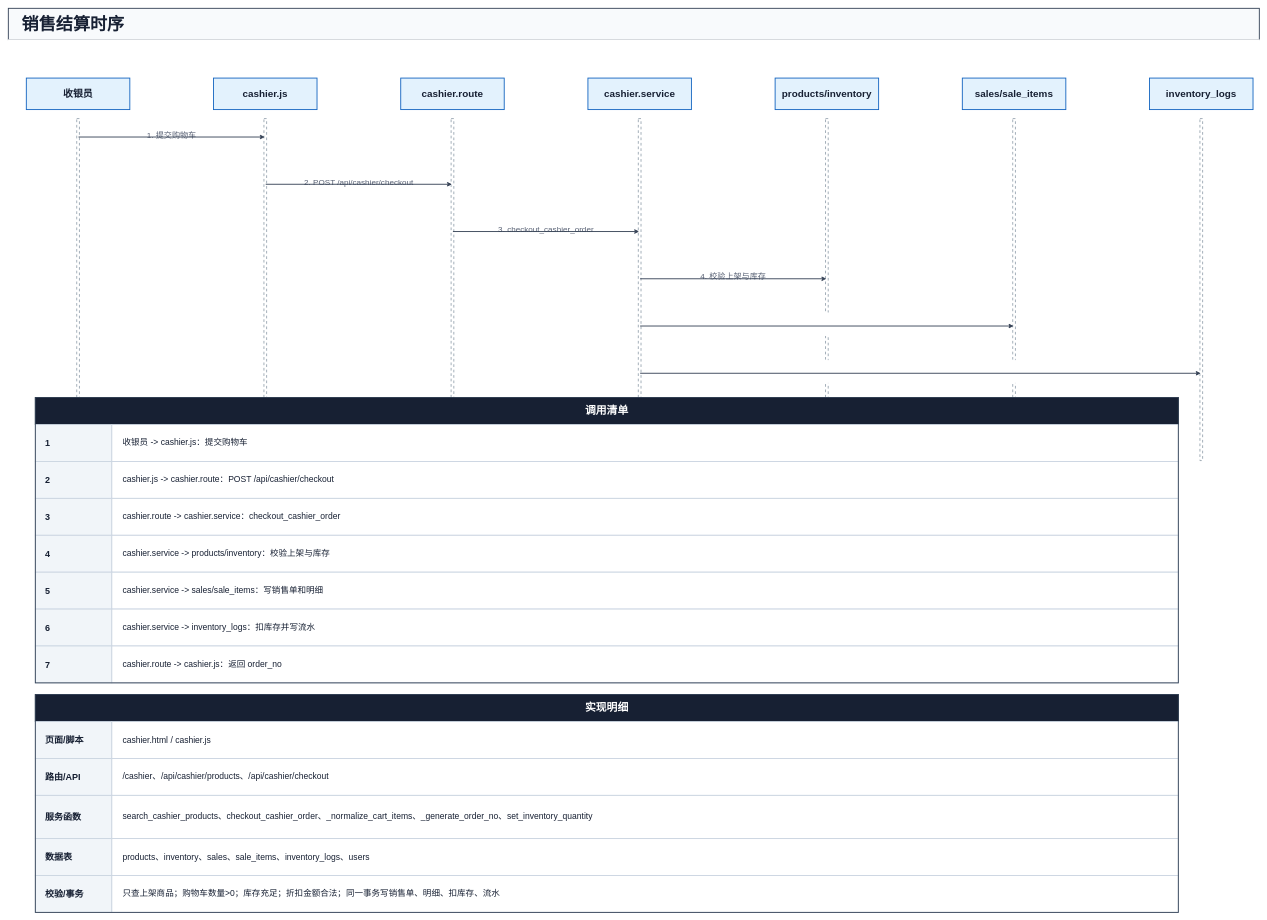
The diagram is 1267 pixels wide and 920 high, and some of its shapes have lost their labels. Here are the shapes that lost their labels. From the top down, the centre of each, then its label:
At (634,48): "时序图｜参与者、调用顺序、落表与返回值".
At (826,324): "5. 写销售单和明细".
At (920,371): "6. 扣库存并写流水".
